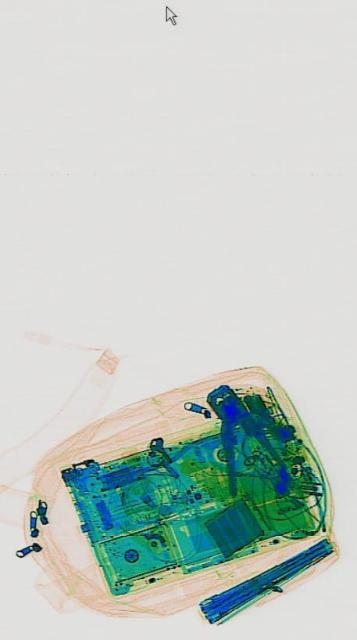Pliers: (192, 360, 286, 522)
